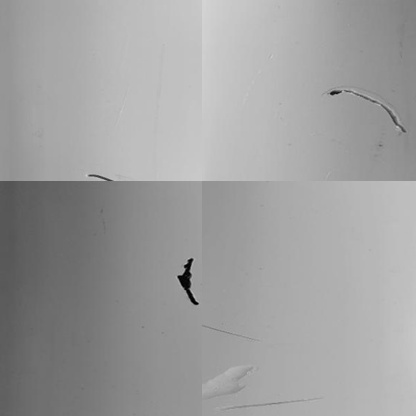fengxi: (322, 84, 410, 137), (85, 170, 113, 183)
kongdong: (173, 252, 197, 307)
sunshang: (210, 396, 323, 416), (202, 361, 258, 396), (203, 321, 261, 343)
